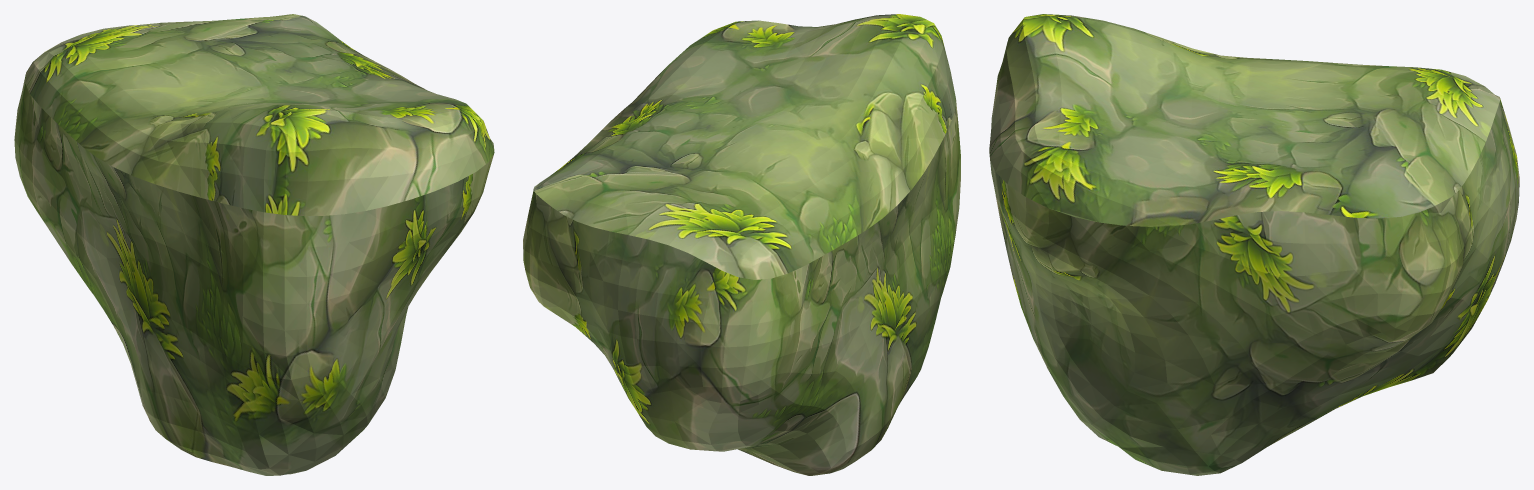
File: rock-2.obj
3 views of the same model, side by side, from view 1: azimuth 30°, elevation 25°; view 2: azimuth 150°, elevation 25°; view 3: azimuth 270°, elevation 25° (orthographic). The views are drawn at different scales.
Visible parts, largest first — view 1: Group50369, Group25453; view 2: Group50369, Group25453; view 3: Group50369, Group25453.
Boxes of the visible parts, x1=… form: Group50369: x1=14, y1=74, x2=493, y2=475; Group25453: x1=25, y1=14, x2=494, y2=215; Group50369: x1=523, y1=100, x2=960, y2=475; Group25453: x1=533, y1=14, x2=955, y2=279; Group50369: x1=990, y1=98, x2=1519, y2=475; Group25453: x1=989, y1=14, x2=1500, y2=226.
Size of the model in its own units: 1.37 by 1.67 by 1.98.
